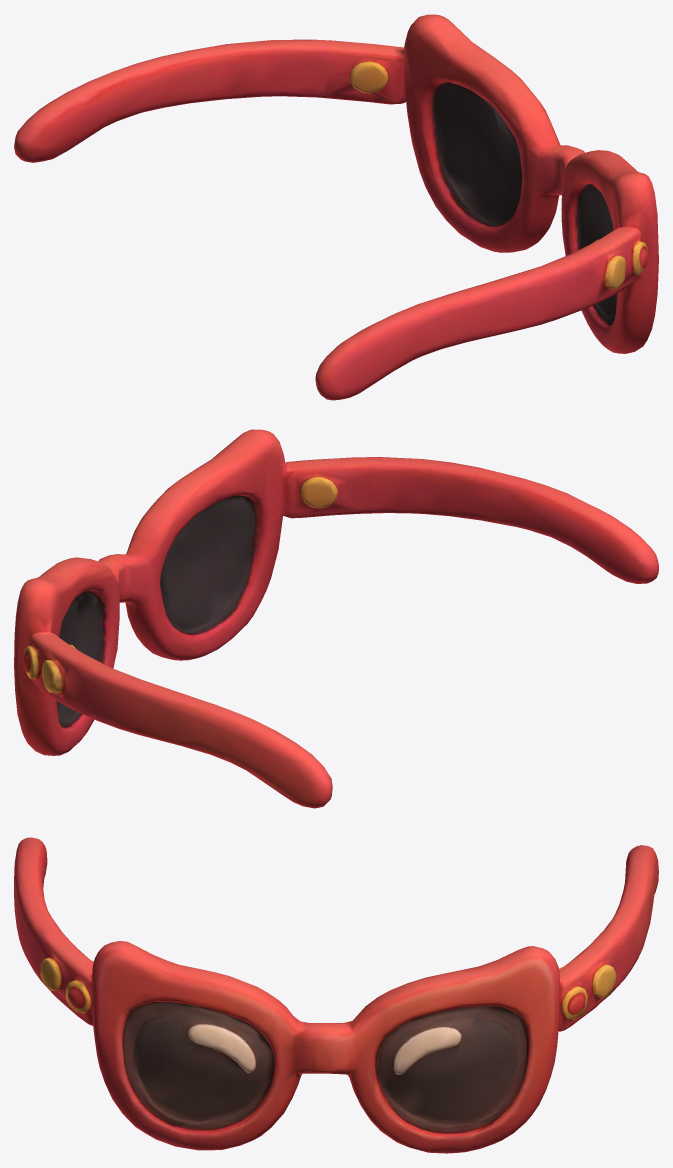
The model's file is sunglasses.glb.
3 views of the same model, one above another, from view 1: azimuth 30°, elevation 25°; view 2: azimuth 150°, elevation 25°; view 3: azimuth 270°, elevation 25° (orthographic). The views are drawn at different scales.
Visible parts, largest first — view 1: tripo_node_f6b77f79-02c6-4333-b534-4e57b567c753; view 2: tripo_node_f6b77f79-02c6-4333-b534-4e57b567c753; view 3: tripo_node_f6b77f79-02c6-4333-b534-4e57b567c753.
Boxes of the visible parts, x1,y1,x2,y2 form: tripo_node_f6b77f79-02c6-4333-b534-4e57b567c753: (14, 14, 658, 400); tripo_node_f6b77f79-02c6-4333-b534-4e57b567c753: (14, 429, 658, 808); tripo_node_f6b77f79-02c6-4333-b534-4e57b567c753: (14, 837, 658, 1153).
Size of the model in its own units: 2.19 by 0.9999 by 2.99.
Materials: 1 (1 with a texture image).
